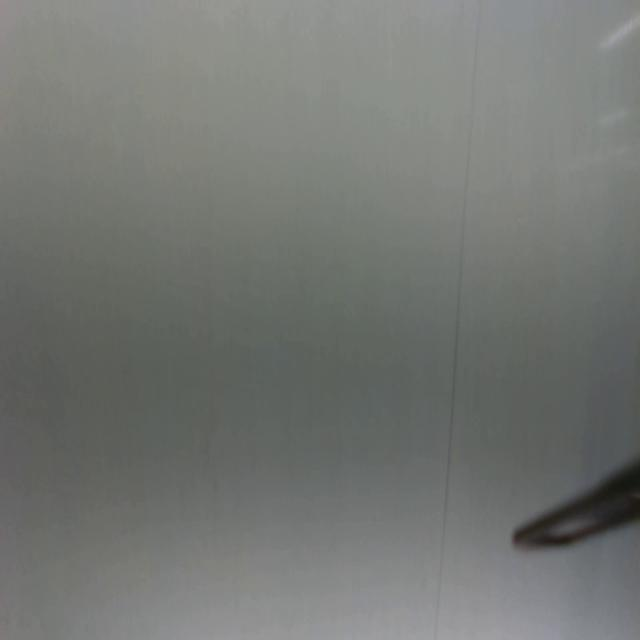crease: (428, 0, 483, 640)
